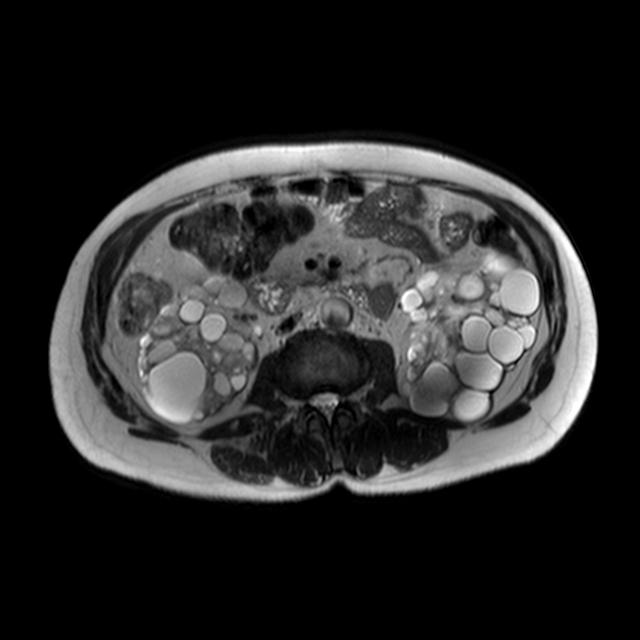sag: (134, 273, 264, 425)
sol: (396, 245, 541, 422)
